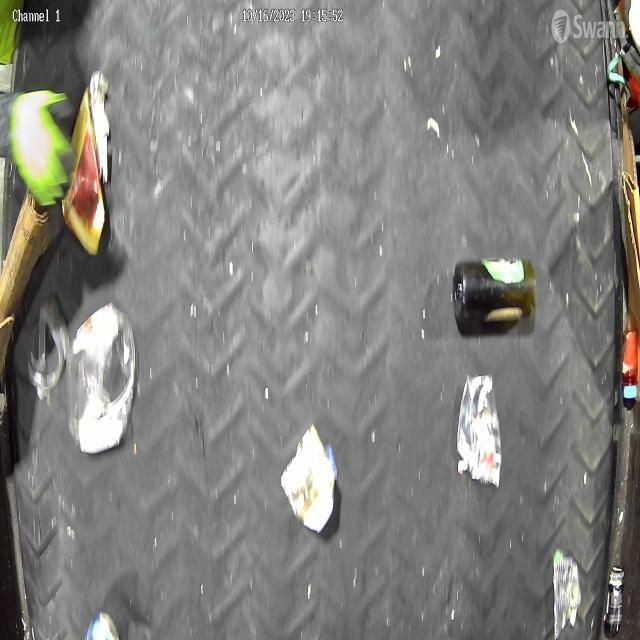can: (85, 612, 121, 640)
